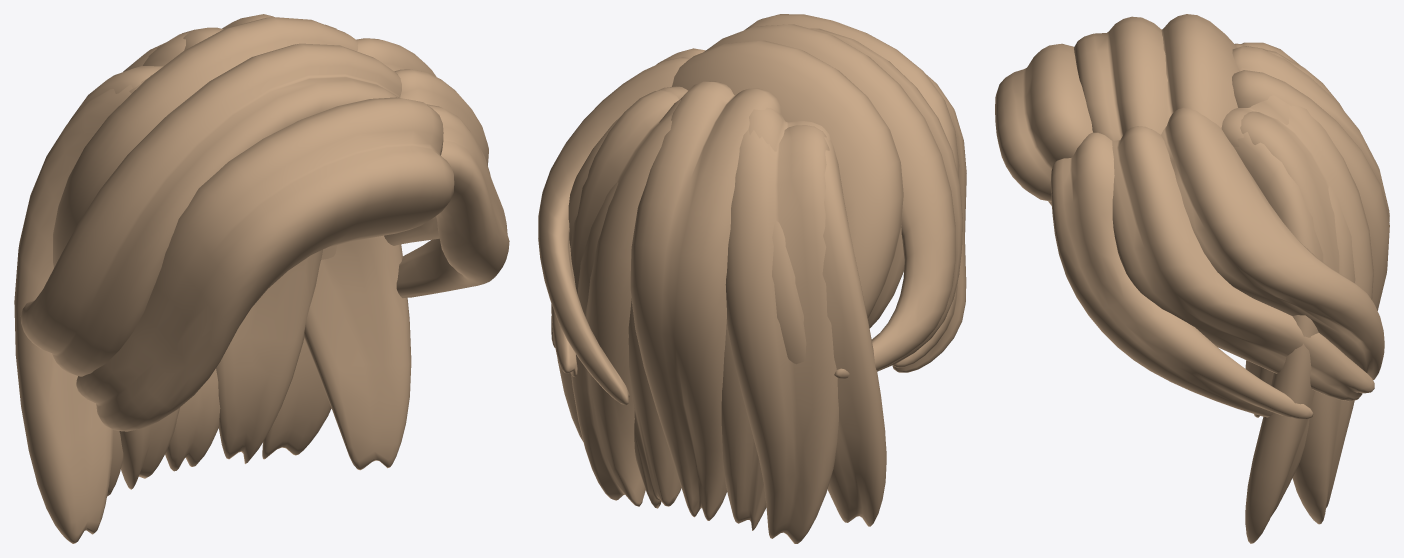
The model's file is hair-10-836d5803.glb.
The picture shows the model from 3 angles, left to right: view 1: azimuth 30°, elevation 25°; view 2: azimuth 150°, elevation 25°; view 3: azimuth 270°, elevation 25°; orthographic projection. The views are drawn at different scales.
Parts seen in each view (by area): view 1: Geo_White_Older_Female_Hair_10.001; view 2: Geo_White_Older_Female_Hair_10.001; view 3: Geo_White_Older_Female_Hair_10.001.
Boxes of the visible parts, x1,y1,x2,y2 form: Geo_White_Older_Female_Hair_10.001: (14, 14, 509, 543); Geo_White_Older_Female_Hair_10.001: (538, 14, 966, 543); Geo_White_Older_Female_Hair_10.001: (995, 14, 1389, 543).
Bounding box in the file's own units: 1.97 × 2.19 × 1.76.
